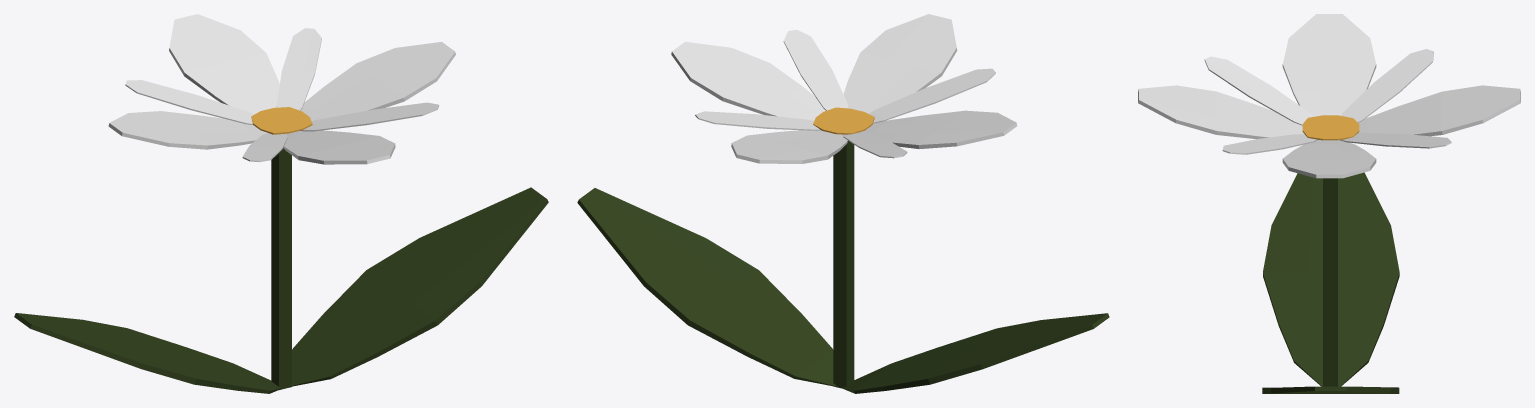
File: flower01.fbx
3 views of the same model, side by side, from view 1: azimuth 30°, elevation 25°; view 2: azimuth 150°, elevation 25°; view 3: azimuth 270°, elevation 25° (orthographic).
Parts seen in each view (by area): view 1: Flower01_Green, Flower01_Petals; view 2: Flower01_Green, Flower01_Petals; view 3: Flower01_Petals, Flower01_Green.
Part boxes in pixels (box(x1,y1,x2,y2)): Flower01_Green: box(14, 107, 548, 393); Flower01_Petals: box(108, 14, 455, 164); Flower01_Green: box(577, 107, 1109, 393); Flower01_Petals: box(671, 14, 1017, 163); Flower01_Petals: box(1138, 14, 1520, 178); Flower01_Green: box(1262, 115, 1399, 393).
Size of the model in its own units: 244 by 135 by 158.
